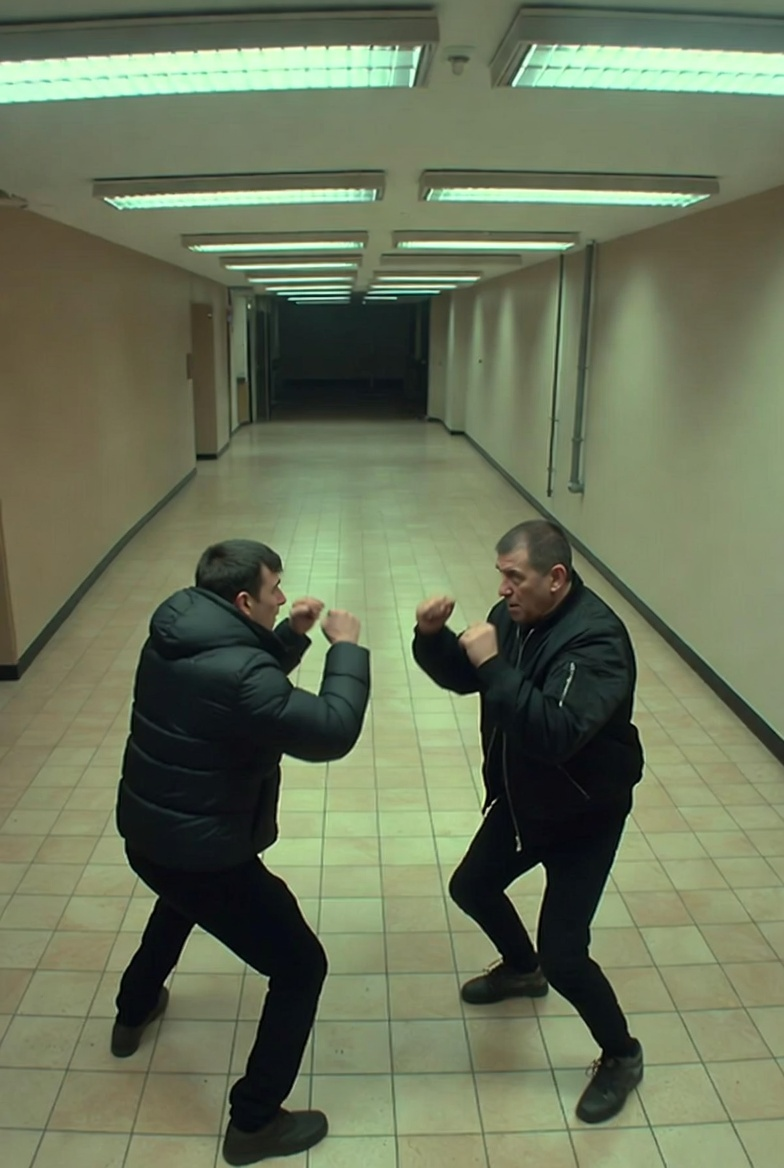Assault: (411, 519, 649, 1129)
Fighting: (106, 539, 373, 1164)
